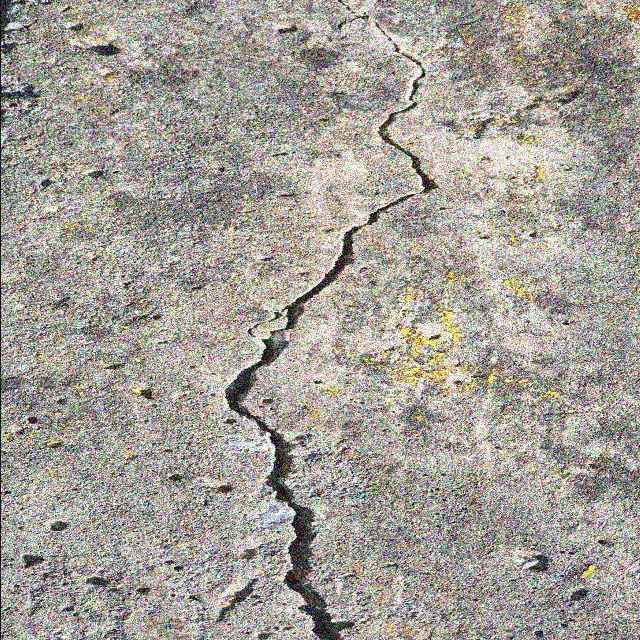SurfaceCrack: (204, 0, 461, 639)
